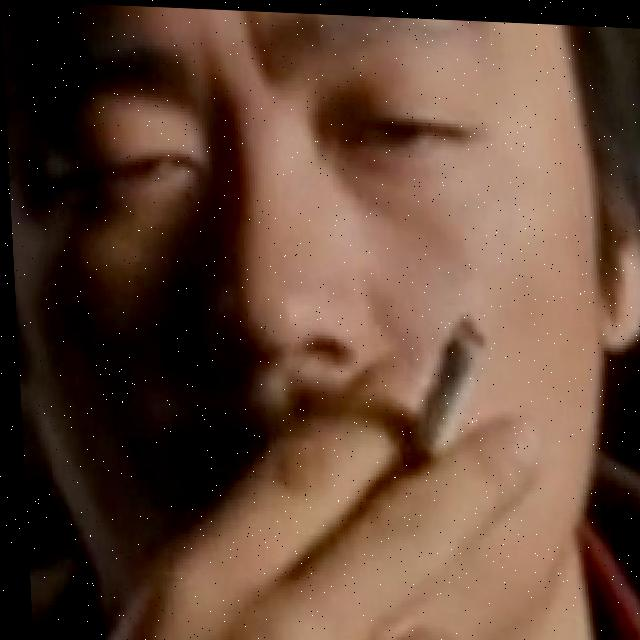cigarette: (398, 309, 487, 470)
